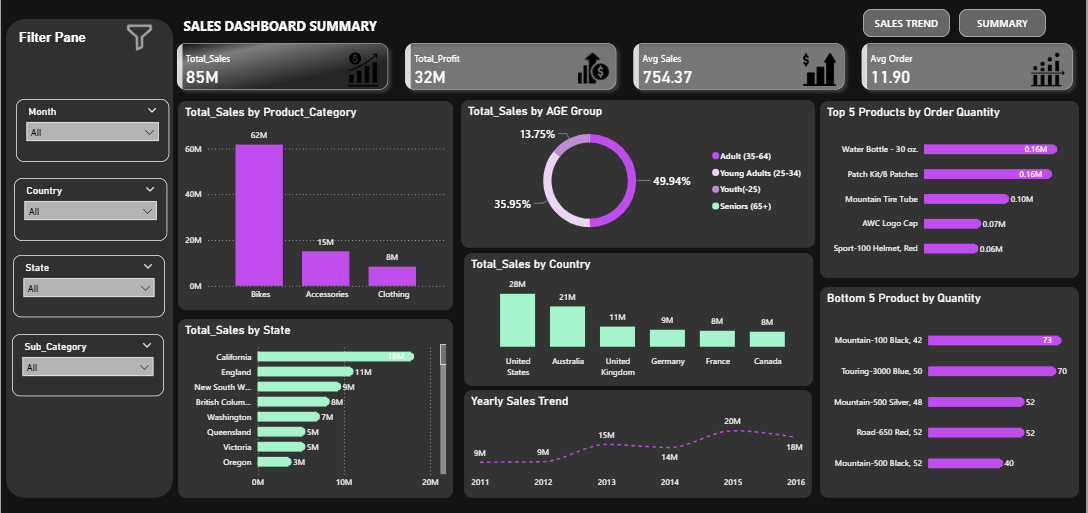

The dashboard page shown, as its layout file describes it:
{"tool":"powerbi","page":{"name":"SUMMARY","canvas":[1550,900],"ordinal":0},"visuals":[{"type":"cardVisual","fields":{"Data":["Measure.Total_Sales","Measure.Total_Profit","Measure.Avg Sales","Measure.Avg Order"]},"box":[234.3,58.6,1315.7,101.4],"z":0},{"type":"shape","box":[7.1,41.4,238.6,684.3],"z":1000},{"type":"columnChart","fields":{"Y":["Measure.Total_Sales"],"Category":["sales_data.Product_Category"]},"box":[252.7,158.5,392.6,299.1],"z":2000},{"type":"textbox","box":[10,52.9,127.1,32.9],"z":3000},{"type":"barChart","fields":{"Category":["sales_data.State"],"Y":["Measure.Total_Sales"]},"box":[252.9,470,392.9,255.7],"z":4000},{"type":"slicer","fields":{"Values":["sales_data.Date.Variation.Date Hierarchy.Month"]},"box":[21.4,155.7,218.6,90],"z":5000},{"type":"columnChart","fields":{"Y":["Measure.Total_Sales"],"Category":["sales_data.Country"]},"box":[660.9,375.3,498.9,189.9],"z":6000},{"type":"slicer","fields":{"Values":["sales_data.Country"]},"box":[18.6,268.6,218.6,90],"z":7000},{"type":"lineChart","title":"Yearly Sales Trend","fields":{"Category":["sales_data.Date.Variation.Date Hierarchy.Year"],"Y":["Measure.Total_Sales"]},"box":[661.4,571.4,497.1,154.3],"z":8000},{"type":"slicer","fields":{"Values":["sales_data.State"]},"box":[17.1,378.6,217.1,88.6],"z":9000},{"type":"barChart","title":"Top 5 Products by Order Quantity","fields":{"Category":["sales_data.Product"],"Y":["Sum(sales_data.Order_Quantity)"]},"box":[1170,158.6,370,252.9],"z":10000},{"type":"slicer","fields":{"Values":["sales_data.Sub_Category"]},"box":[15.7,491.4,217.1,88.6],"z":11000},{"type":"barChart","title":"Bottom 5 Product by Quantity","fields":{"Category":["sales_data.Product"],"Y":["Sum(sales_data.Order_Quantity)"]},"box":[1170,424.3,370,301.4],"z":12000},{"type":"donutChart","fields":{"Y":["Measure.Total_Sales"],"Category":["sales_data.AGE Group"]},"box":[657.1,157.1,505.7,211.4],"z":13000},{"type":"textbox","box":[255.7,32.9,414.3,42.9],"z":14000},{"type":"actionButton","box":[1368.6,40,100,32.9],"z":15000},{"type":"actionButton","box":[1231.4,40,124.3,32.9],"z":16000},{"type":"image","box":[172.9,41.4,50,51.4],"z":18000}]}

Visuals, with their boxes on the page's 1550x900 design canvas (x1, y1, x2, y2). These are canvas units, not pixel positions in the 1088x513 screenshot, which may show the page scaled, cropped or inside an application window:
cardVisual - Measure.Total_Sales x Measure.Total_Profit: [left=234, top=59, right=1550, bottom=160]
shape: [left=7, top=41, right=246, bottom=726]
columnChart - Measure.Total_Sales x sales_data.Product_Category: [left=253, top=158, right=645, bottom=458]
textbox: [left=10, top=53, right=137, bottom=86]
barChart - sales_data.State x Measure.Total_Sales: [left=253, top=470, right=646, bottom=726]
slicer - sales_data.Date.Variation.Date Hierarchy.Month: [left=21, top=156, right=240, bottom=246]
columnChart - Measure.Total_Sales x sales_data.Country: [left=661, top=375, right=1160, bottom=565]
slicer - sales_data.Country: [left=19, top=269, right=237, bottom=359]
"Yearly Sales Trend" lineChart: [left=661, top=571, right=1158, bottom=726]
slicer - sales_data.State: [left=17, top=379, right=234, bottom=467]
"Top 5 Products by Order Quantity" barChart: [left=1170, top=159, right=1540, bottom=412]
slicer - sales_data.Sub_Category: [left=16, top=491, right=233, bottom=580]
"Bottom 5 Product by Quantity" barChart: [left=1170, top=424, right=1540, bottom=726]
donutChart - Measure.Total_Sales x sales_data.AGE Group: [left=657, top=157, right=1163, bottom=368]
textbox: [left=256, top=33, right=670, bottom=76]
actionButton: [left=1369, top=40, right=1469, bottom=73]
actionButton: [left=1231, top=40, right=1356, bottom=73]
image: [left=173, top=41, right=223, bottom=93]
